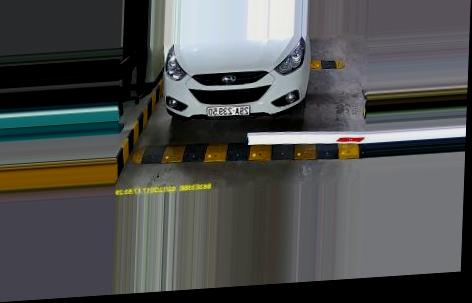License_Plate: (206, 103, 252, 119)
